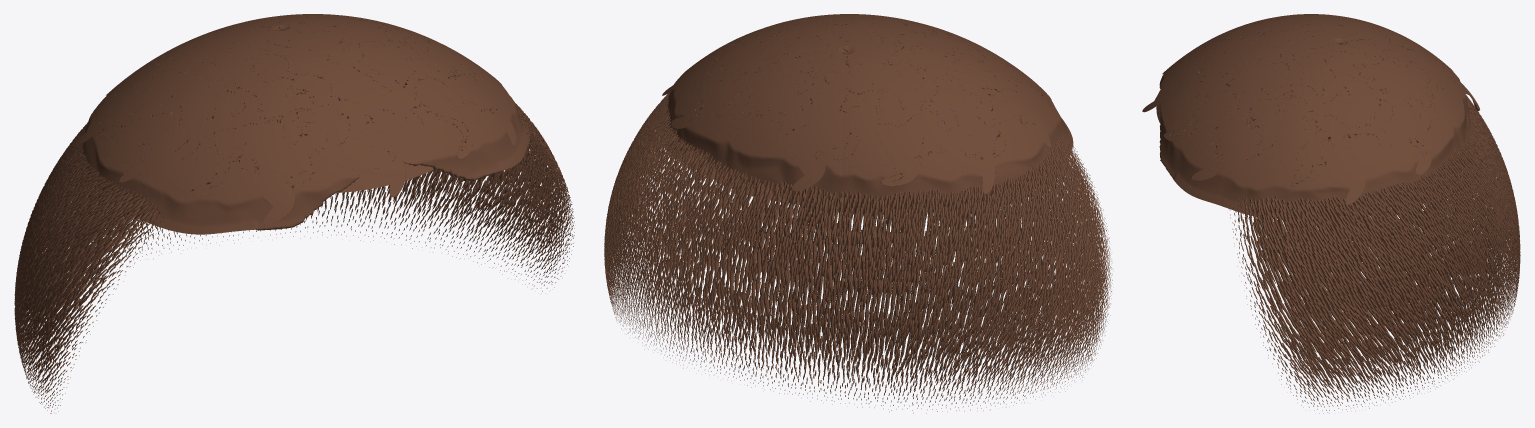
File: Masculine-curly-top-cap254-hair-ombre.glb
The picture shows the model from 3 angles, left to right: view 1: azimuth 30°, elevation 25°; view 2: azimuth 150°, elevation 25°; view 3: azimuth 270°, elevation 25°; orthographic projection. The views are drawn at different scales.
Parts seen in each view (by area): view 1: 226 hair / Hair252 / sculpted curl groups, 226 hair / Hair254 / rooted short groom; view 2: 226 hair / Hair254 / rooted short groom, 226 hair / Hair252 / sculpted curl groups; view 3: 226 hair / Hair254 / rooted short groom, 226 hair / Hair252 / sculpted curl groups.
Boxes of the visible parts, x1,y1,x2,y2 form: 226 hair / Hair252 / sculpted curl groups: (72,14,529,234); 226 hair / Hair254 / rooted short groom: (14,103,574,413); 226 hair / Hair254 / rooted short groom: (604,92,1112,413); 226 hair / Hair252 / sculpted curl groups: (657,14,1073,215); 226 hair / Hair254 / rooted short groom: (1156,94,1520,413); 226 hair / Hair252 / sculpted curl groups: (1142,14,1479,218).
Size of the model in its own units: 0.9716 by 0.5806 by 0.7286.
